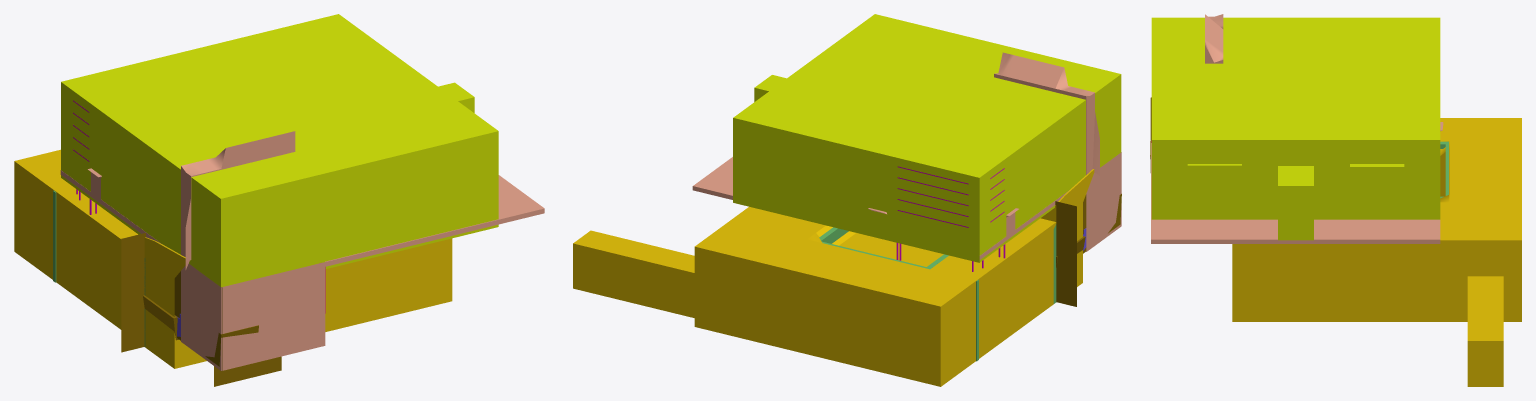
Rendered from TheActualBar.fbx.
3 views of the same model, side by side, from view 1: azimuth 30°, elevation 25°; view 2: azimuth 150°, elevation 25°; view 3: azimuth 270°, elevation 25° (orthographic). The views are drawn at different scales.
Parts seen in each view (by area): view 1: FirstFloorWalls, Cube__2_, Cube__1_, Cube__7_, Cube__10_, Cube__8_, Cube__5_, Cube__3__1; view 2: FirstFloorWalls, Cube__2_, Cube__1_, Cube__7_, Cube__3__1, Cube__8_; view 3: FirstFloorWalls, Cube__2_, Cube__1_.
Part boxes in pixels (box(x1,y1,x2,y2)): FirstFloorWalls: box(61, 14, 498, 287); Cube__2_: box(14, 149, 452, 368); Cube__1_: box(60, 131, 544, 370); Cube__7_: box(121, 263, 144, 352); Cube__10_: box(214, 356, 281, 386); Cube__8_: box(121, 233, 145, 275); Cube__5_: box(143, 295, 178, 340); Cube__3__1: box(53, 190, 145, 346); FirstFloorWalls: box(733, 14, 1121, 262); Cube__2_: box(573, 169, 1094, 386); Cube__1_: box(692, 52, 1121, 259); Cube__7_: box(1056, 228, 1076, 306); Cube__3__1: box(819, 224, 1056, 361); Cube__8_: box(1055, 201, 1076, 239); FirstFloorWalls: box(1151, 17, 1440, 240); Cube__2_: box(1232, 118, 1521, 386); Cube__1_: box(1151, 14, 1443, 243).
Bounding box in the file's own units: 96.85 × 51.83 × 77.05.
